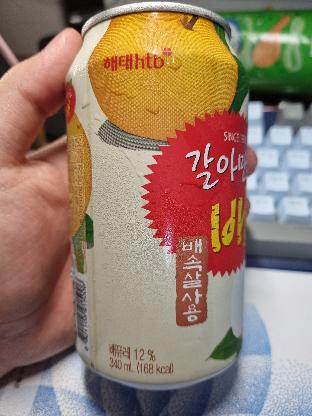Can: (65, 7, 258, 392)
